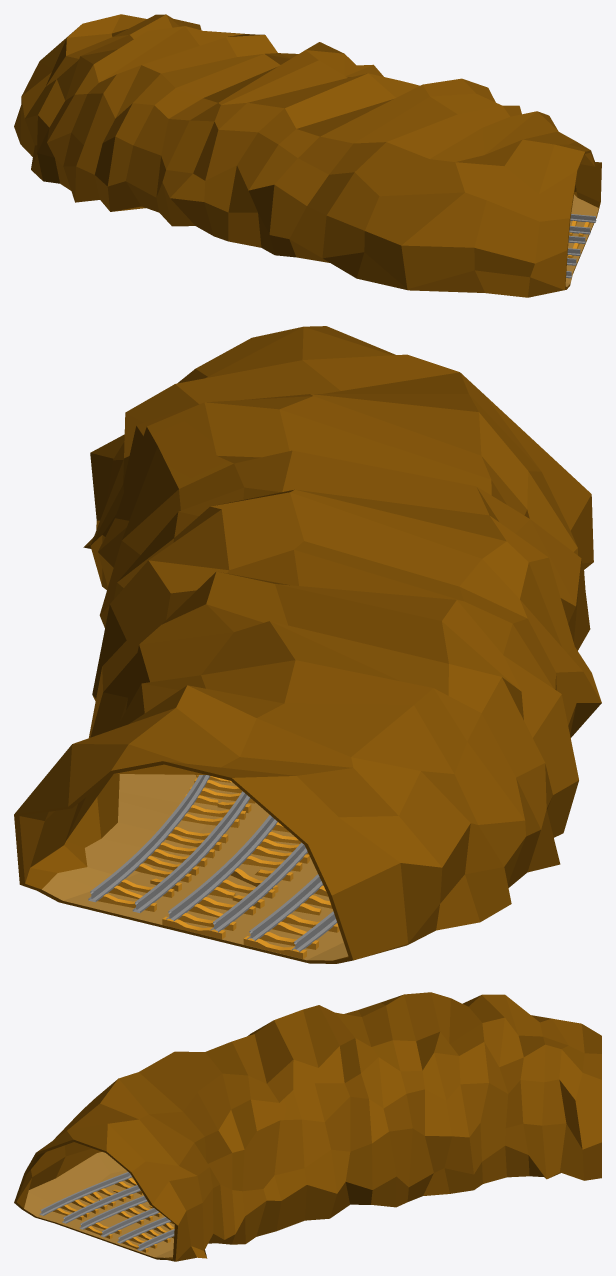
The model's file is Cave.fbx.
The picture shows the model from 3 angles, top to bottom: view 1: azimuth 30°, elevation 25°; view 2: azimuth 150°, elevation 25°; view 3: azimuth 270°, elevation 25°; orthographic projection. The views are drawn at different scales.
Parts seen in each view (by area): view 1: Cueva_Estructura.003, Rail.004; view 2: Cueva_Estructura.003, Rail.009, Rail, Rail.010, Rail.001, Rail.008; view 3: Cueva_Estructura.003, Rail.014, Rail.005, Rail.004.
Boxes of the visible parts, box(x1,y1,x2,y2) form: Cueva_Estructura.003: box(14, 14, 601, 297); Rail.004: box(569, 214, 596, 236); Cueva_Estructura.003: box(14, 326, 601, 963); Rail.009: box(162, 831, 309, 939); Rail: box(88, 819, 221, 912); Rail.010: box(243, 874, 339, 958); Rail.001: box(168, 775, 255, 843); Rail.008: box(256, 815, 308, 854); Cueva_Estructura.003: box(14, 992, 601, 1261); Rail.014: box(39, 1172, 142, 1223); Rail.005: box(79, 1196, 161, 1238); Rail.004: box(117, 1217, 174, 1252).
Bounding box in the file's own units: 2298 × 759 × 3034.
